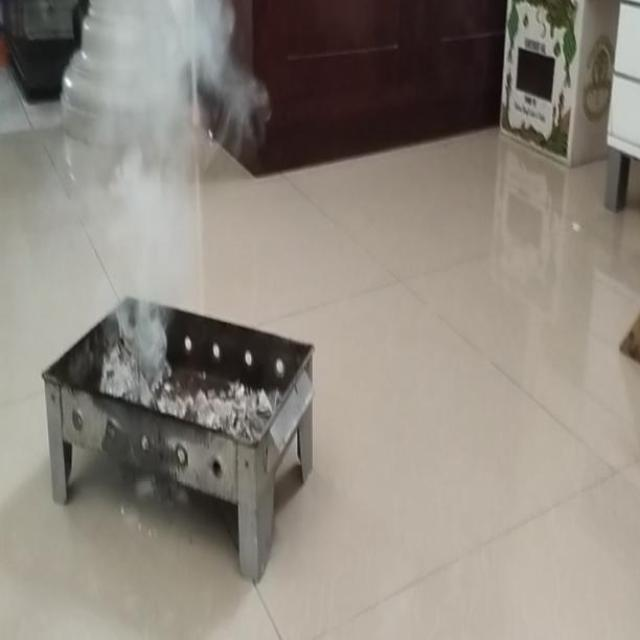fire: (76, 0, 260, 297)
